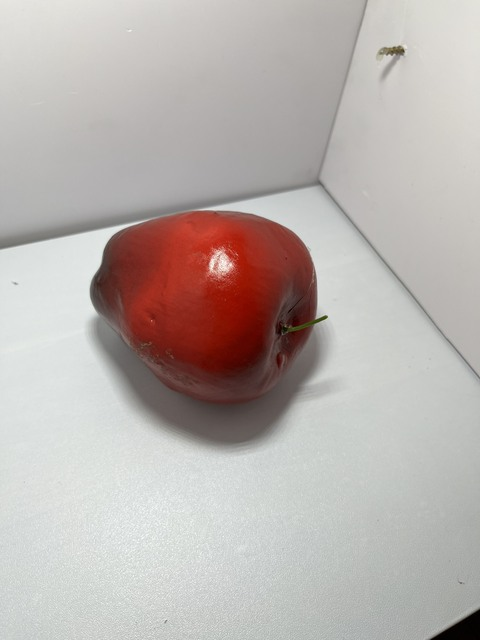Tao: (86, 203, 325, 409)
